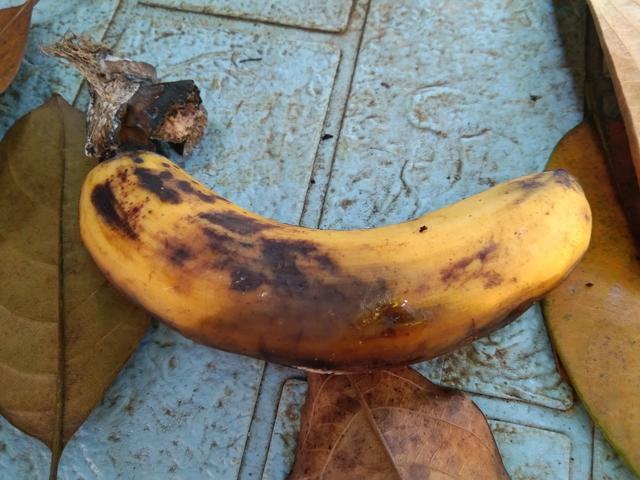rotten: (55, 125, 618, 421)
